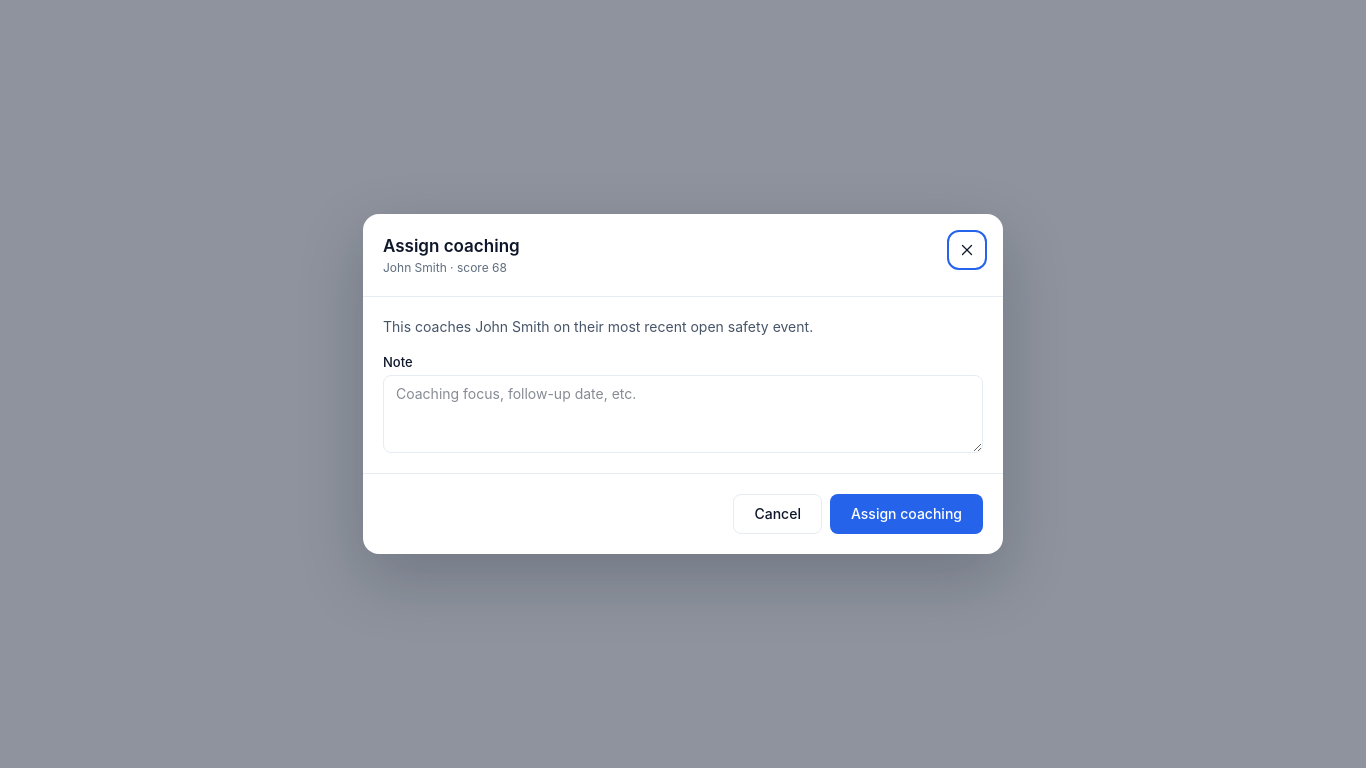
Test: AssignCoachingModal › a driver with no open event to coach (404) says so
The image size is (1366, 768).
Click the button "Assign coaching": (906, 514) [830, 494, 983, 534]
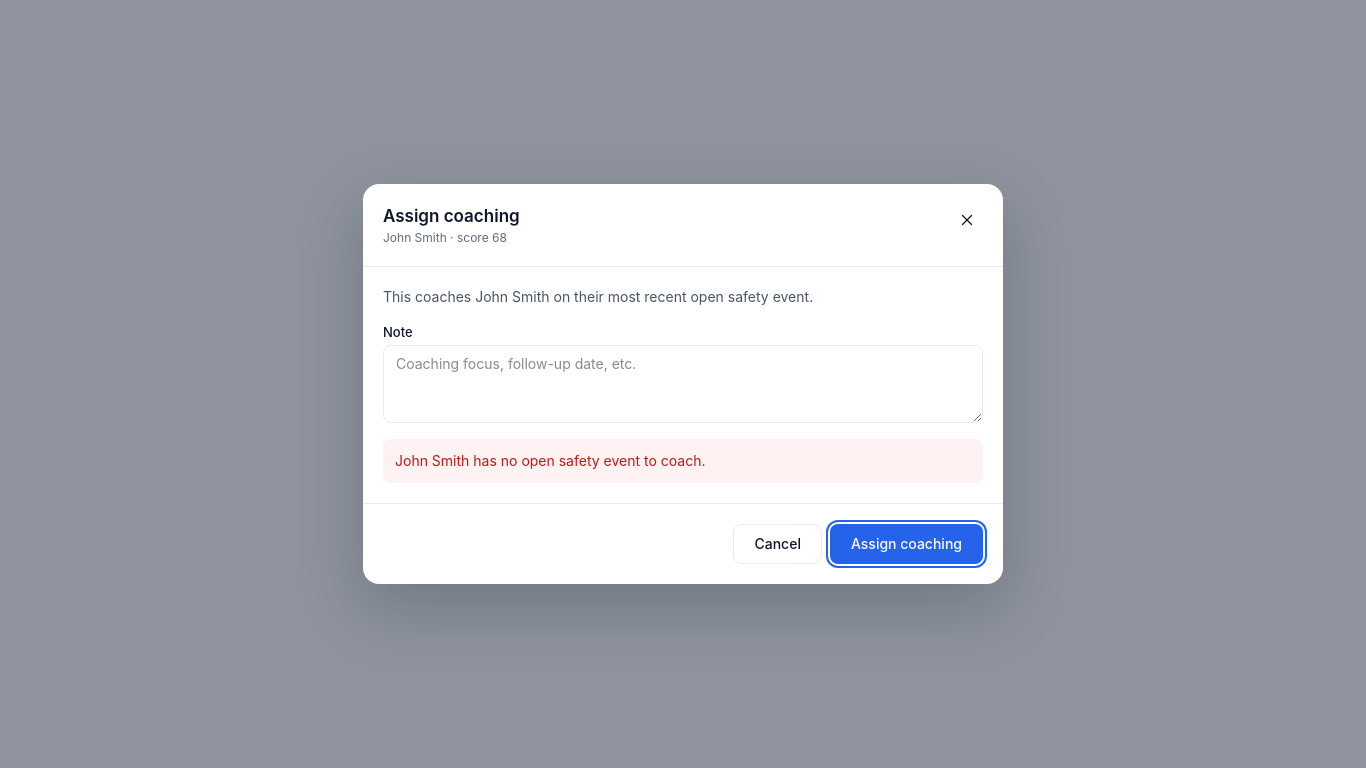
Now the text "John Smith has no open safety event to coach." is shown, box [383, 439, 983, 483]
